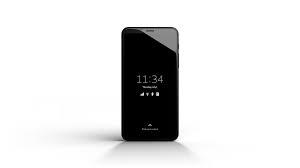Smartphone: (118, 24, 180, 143)
